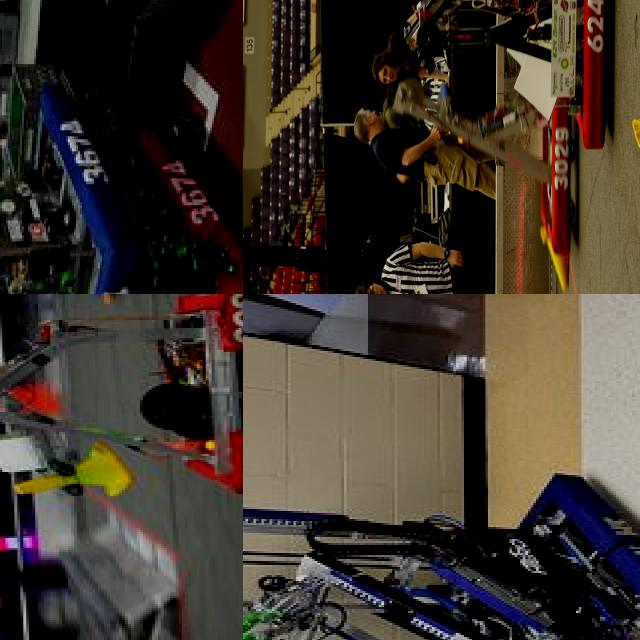FRC-Robots: (243, 455, 640, 640), (370, 0, 608, 293), (0, 294, 243, 530), (412, 0, 622, 133), (0, 98, 123, 294)
